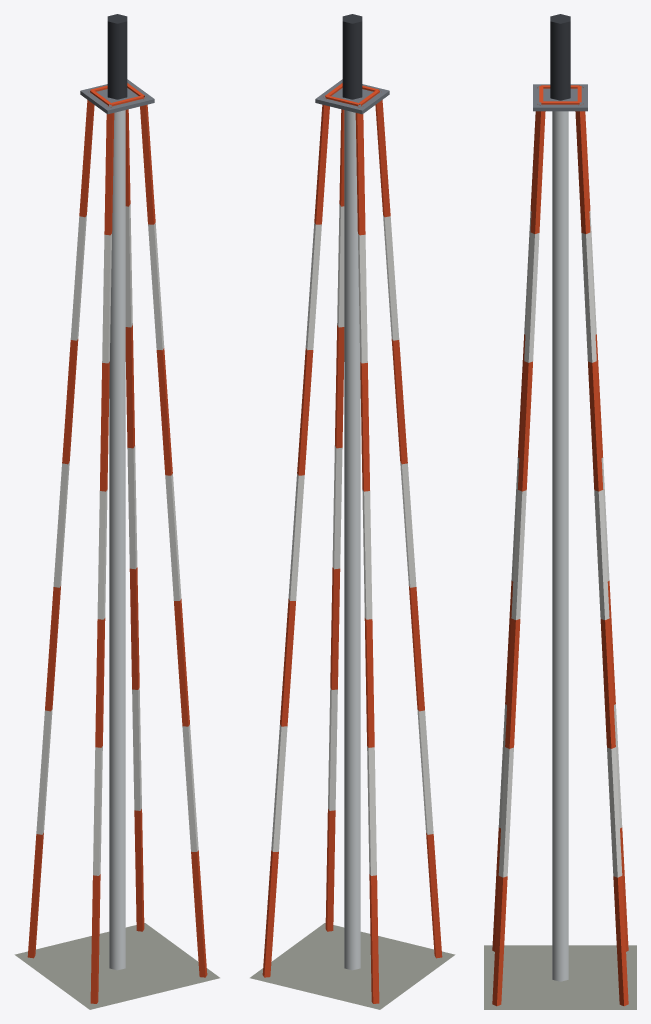
The model's file is mashup-flare-far.fbx.
3 renders of one model, left to right at view 1: azimuth 30°, elevation 25°; view 2: azimuth 150°, elevation 25°; view 3: azimuth 270°, elevation 25°, orthographic.
Visible parts, largest first — view 1: a1018/0/mashup-flare-far; view 2: a1018/0/mashup-flare-far; view 3: a1018/0/mashup-flare-far.
Part boxes in pixels (x1,y1,x2,y2): a1018/0/mashup-flare-far: [14, 14, 219, 1009]; a1018/0/mashup-flare-far: [250, 14, 455, 1009]; a1018/0/mashup-flare-far: [484, 14, 636, 1009].
Bounding box in the file's own units: 7.2 × 49.86 × 7.2.
